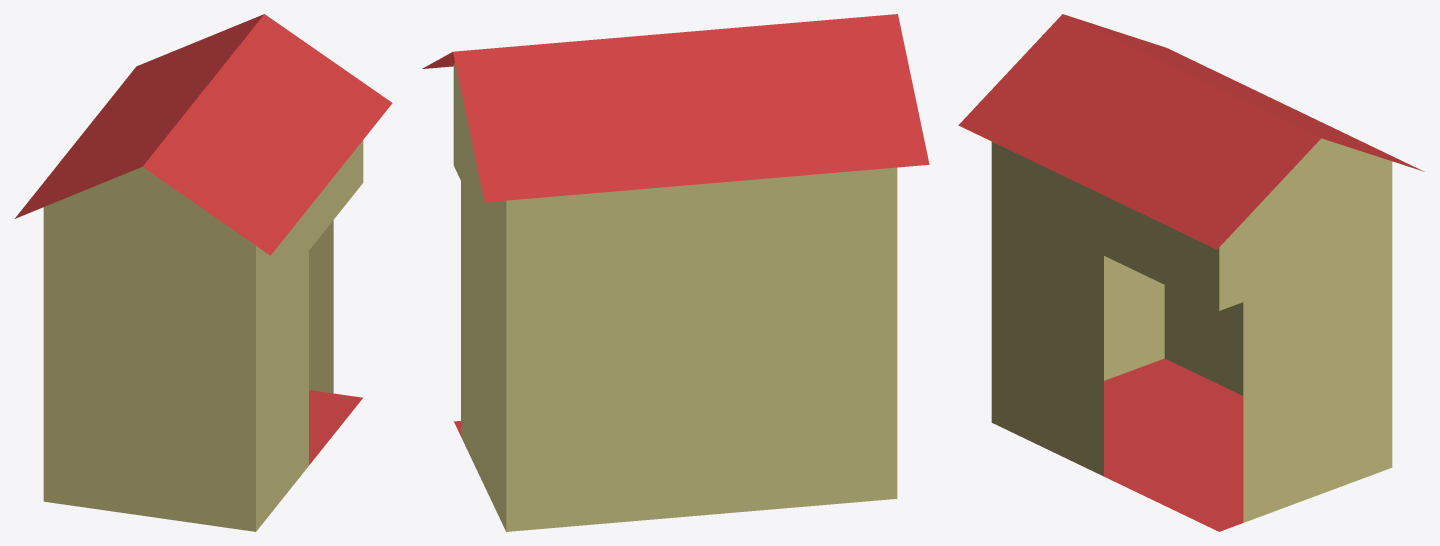
3 views of the same model, side by side, from view 1: azimuth 30°, elevation 25°; view 2: azimuth 150°, elevation 25°; view 3: azimuth 270°, elevation 25° (orthographic). The views are drawn at different scales.
Visible parts, largest first — view 1: group_5, group_3, group_4, group_6; view 2: group_5, group_3, group_4; view 3: group_5, group_3, group_6, group_4.
Part boxes in pixels (x1,y1,x2,y2): group_5: (43,140,363,531); group_3: (15,14,362,230); group_4: (15,14,392,255); group_6: (309,390,362,465); group_5: (453,63,897,531); group_3: (422,15,929,201); group_4: (453,14,927,202); group_5: (991,138,1392,522); group_3: (992,14,1390,241); group_6: (1104,358,1243,531); group_4: (958,14,1424,249).
Size of the model in its own units: 15.1 by 14.77 by 12.86.
